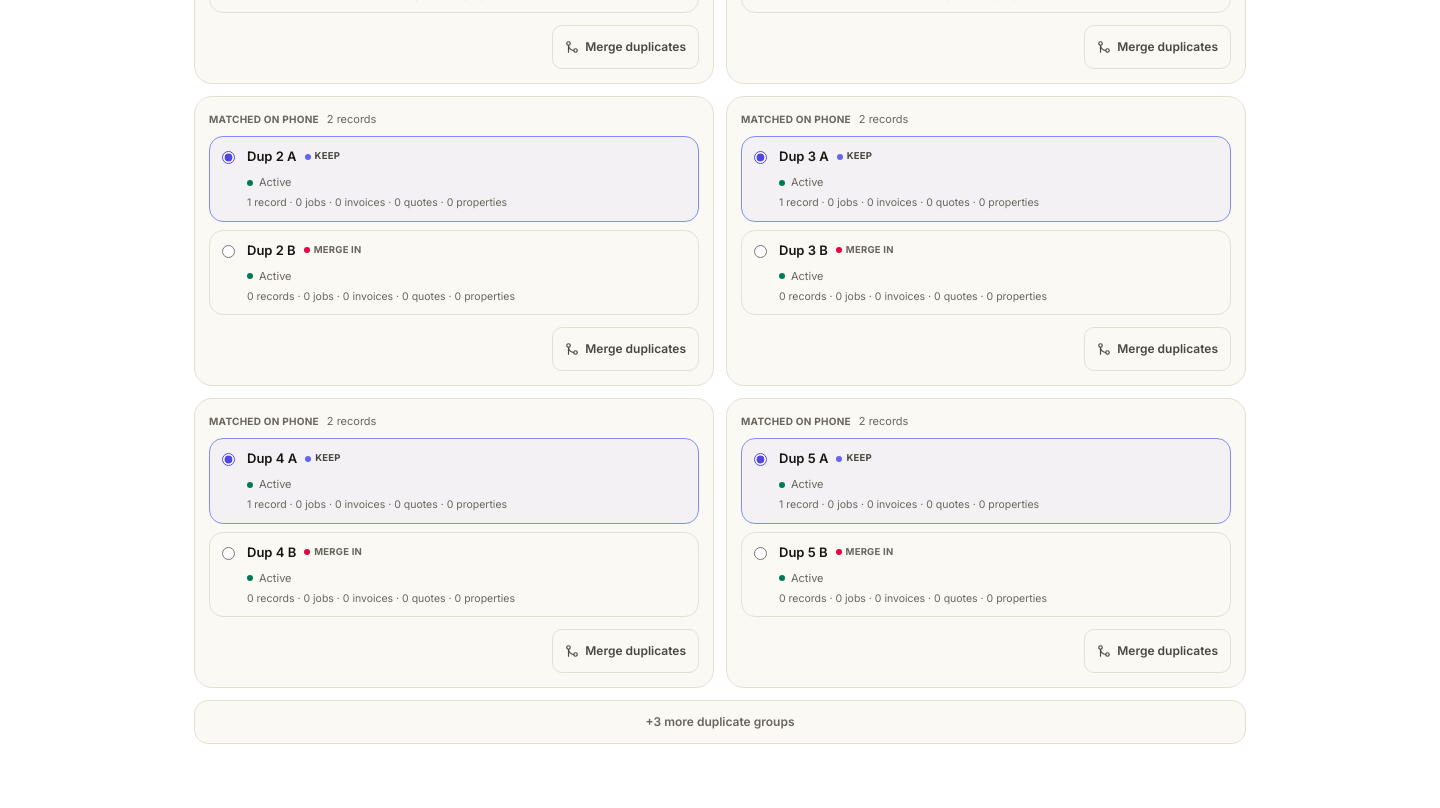
it: Cleanup › caps the duplicate groups and folds the rest
(page scrolled)
Expected: the text "Dup 5 A" is shown, [779, 449, 828, 468]
Expected: the text "Dup 6 A" is not shown
Click the button "+3 more duplicate groups" at (720, 722), box [194, 700, 1246, 744]
(page scrolled)
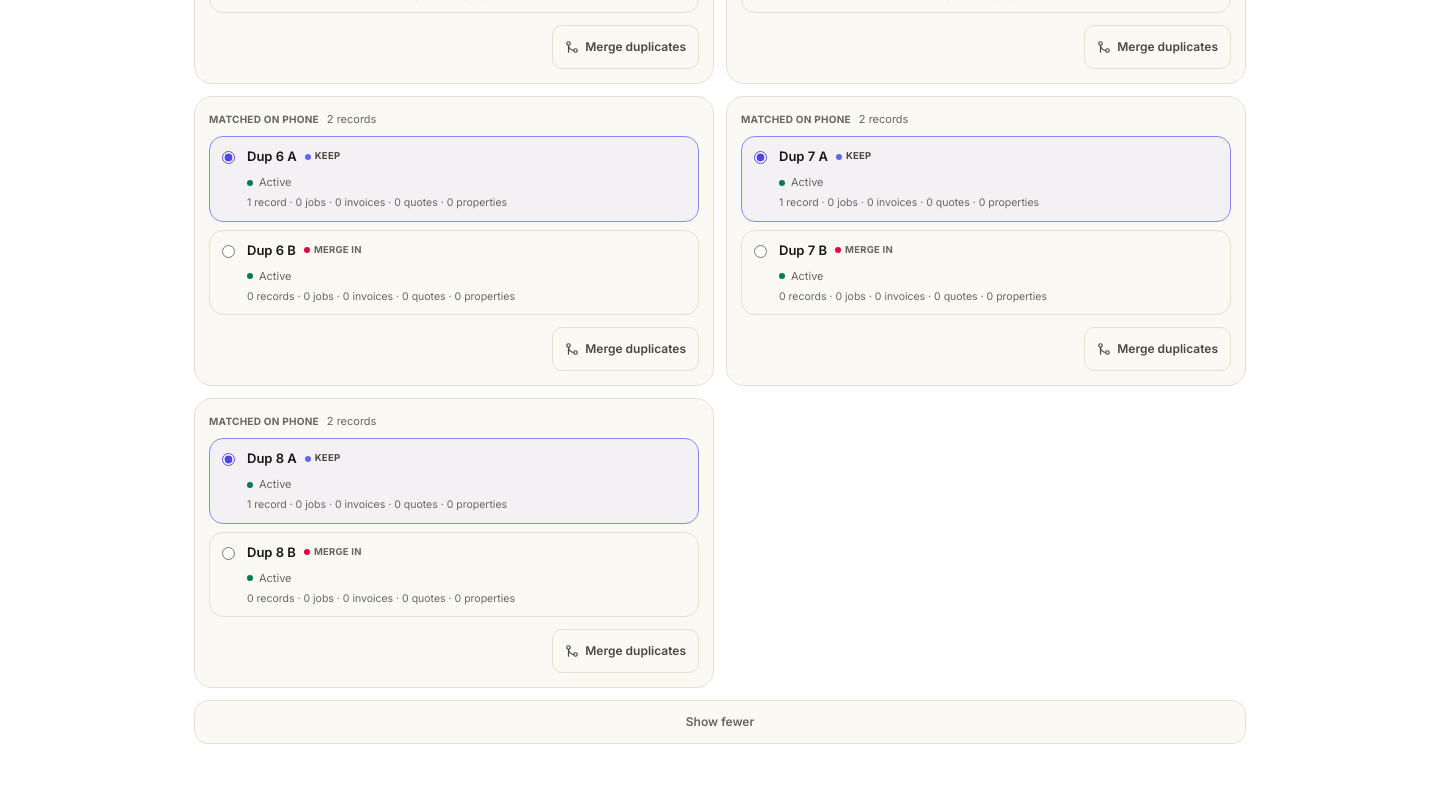
Result: the text "Dup 8 A" is shown at [247, 449, 297, 468]
